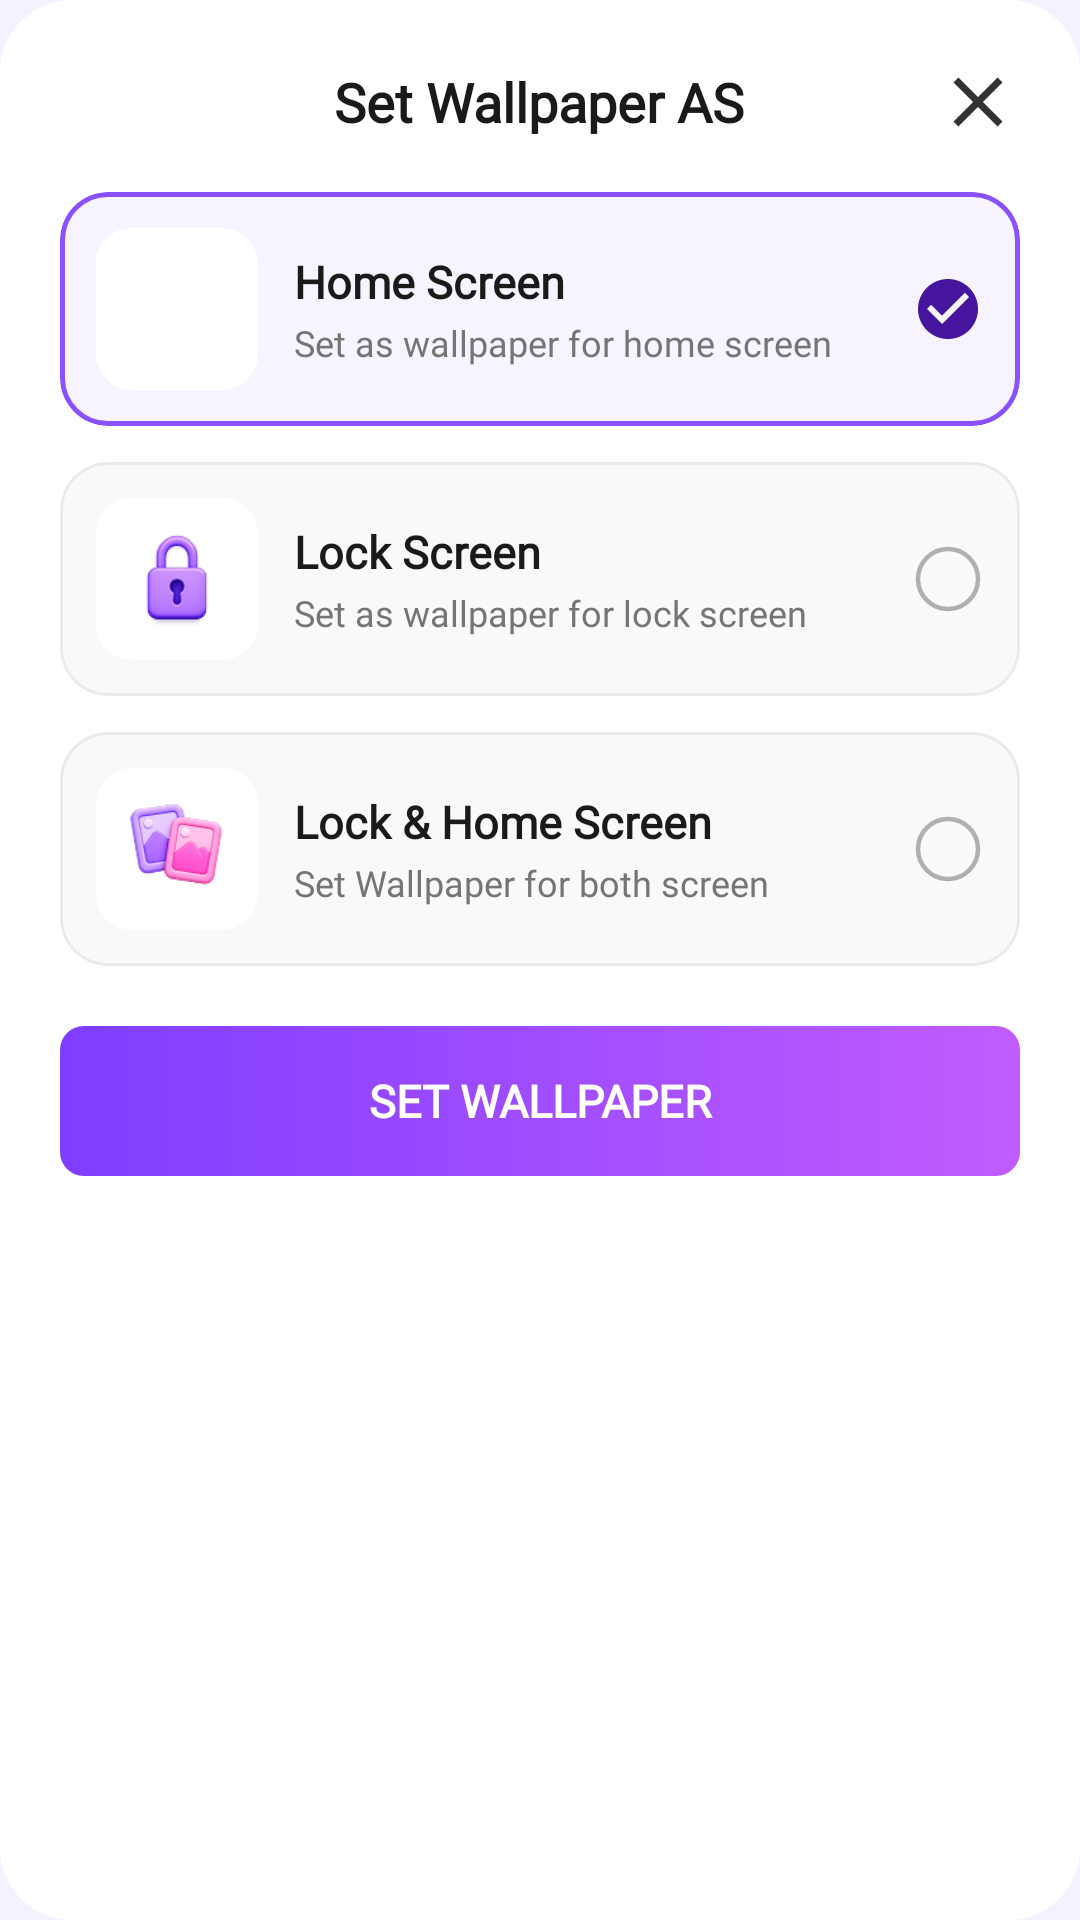

Named icons in this screenshot (1080*1920) and their bounding boxes, (x1, y1, x2, y2):
check circle: (918, 279, 978, 339)
close dialog: (953, 77, 1003, 127)
option both: (130, 804, 222, 885)
option lock: (147, 535, 207, 623)
